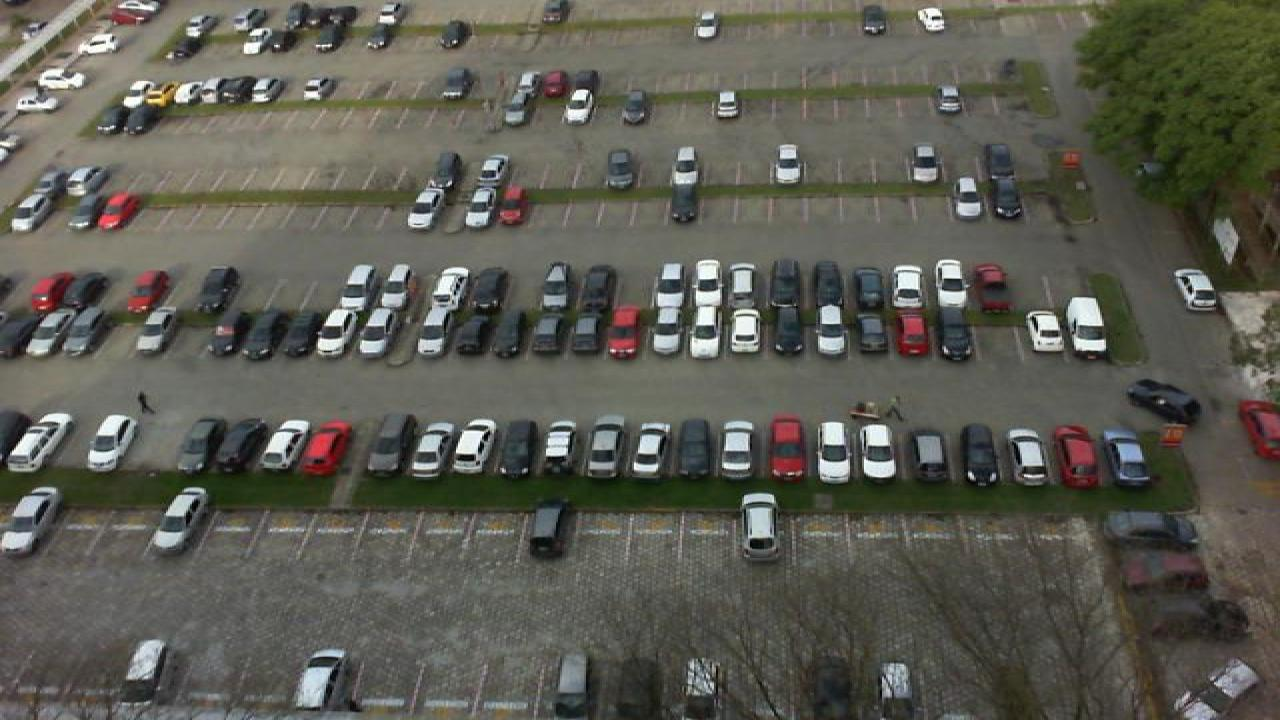Car: (148, 485, 214, 555), (6, 411, 76, 474), (8, 484, 64, 556), (1124, 377, 1206, 425), (294, 648, 350, 718), (362, 414, 416, 478), (1052, 423, 1102, 489), (86, 412, 140, 472), (120, 638, 168, 705), (1104, 426, 1154, 490), (216, 417, 270, 475), (256, 417, 310, 475), (298, 420, 352, 476), (178, 417, 230, 475), (738, 492, 782, 560), (450, 418, 498, 480), (1002, 426, 1050, 486), (494, 418, 540, 480), (1236, 397, 1280, 461), (410, 420, 458, 478), (874, 659, 920, 719), (582, 416, 626, 478), (1064, 296, 1108, 358), (56, 306, 106, 360), (526, 499, 570, 560), (766, 415, 806, 482), (680, 656, 722, 719), (628, 417, 670, 480), (672, 418, 714, 481), (812, 422, 854, 485), (858, 420, 900, 483), (956, 423, 998, 486), (906, 429, 952, 485), (552, 654, 592, 718), (18, 308, 68, 359), (192, 264, 244, 313), (718, 419, 758, 481), (132, 306, 178, 359), (314, 307, 360, 359), (120, 269, 172, 314), (240, 309, 284, 361), (970, 262, 1014, 314), (370, 305, 412, 359), (278, 309, 322, 360), (542, 420, 580, 479), (604, 305, 644, 361), (930, 256, 970, 312), (26, 271, 78, 314), (1172, 266, 1222, 310), (412, 306, 452, 360), (684, 307, 724, 360), (1022, 310, 1068, 356), (204, 309, 246, 359), (726, 308, 766, 359), (62, 270, 110, 312), (564, 306, 602, 358), (10, 187, 52, 233), (528, 306, 564, 358), (338, 264, 380, 308), (430, 264, 470, 310), (94, 191, 140, 231), (646, 307, 682, 358), (650, 260, 688, 308), (936, 310, 972, 360), (488, 307, 524, 357), (452, 307, 488, 357), (540, 261, 576, 311), (808, 259, 844, 309), (688, 258, 722, 310), (812, 308, 848, 357), (54, 190, 96, 232), (468, 266, 508, 310), (576, 264, 614, 310), (888, 264, 926, 310), (404, 187, 442, 233), (32, 166, 80, 202), (772, 308, 806, 357), (894, 313, 930, 359), (726, 264, 762, 310), (378, 264, 414, 308), (850, 266, 886, 310), (768, 259, 800, 308), (854, 310, 888, 356), (464, 184, 498, 230), (428, 151, 466, 192), (770, 142, 806, 185), (990, 176, 1024, 221), (908, 143, 944, 184), (666, 180, 700, 223), (498, 182, 530, 226), (560, 87, 596, 126), (952, 178, 984, 221), (980, 141, 1014, 181), (0, 312, 30, 356), (122, 101, 162, 134), (108, 0, 158, 26), (500, 88, 534, 126), (94, 102, 132, 136), (606, 149, 638, 189), (672, 144, 702, 186), (66, 166, 110, 194), (508, 68, 544, 102), (310, 19, 346, 53), (620, 88, 652, 126), (36, 66, 86, 90), (274, 20, 308, 55), (474, 153, 510, 186), (170, 34, 214, 61), (242, 76, 284, 104), (444, 66, 476, 102), (202, 76, 240, 105), (440, 19, 474, 51), (364, 21, 398, 52), (236, 27, 272, 56), (914, 5, 950, 34), (76, 32, 122, 54), (860, 3, 890, 36), (712, 89, 742, 121), (302, 77, 340, 102), (116, 81, 152, 107), (174, 80, 210, 106), (146, 81, 180, 108), (692, 10, 722, 40), (542, 67, 570, 99), (570, 68, 602, 96), (10, 87, 52, 108)
